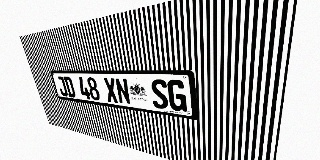4: (77, 77, 91, 100)
8: (86, 77, 101, 101)
D: (63, 76, 76, 98)
G: (167, 79, 187, 112)
J: (56, 76, 69, 97)
N: (115, 78, 131, 105)
S: (150, 79, 169, 110)
X: (103, 78, 119, 103)
